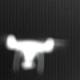plane: (2, 32, 65, 74)
